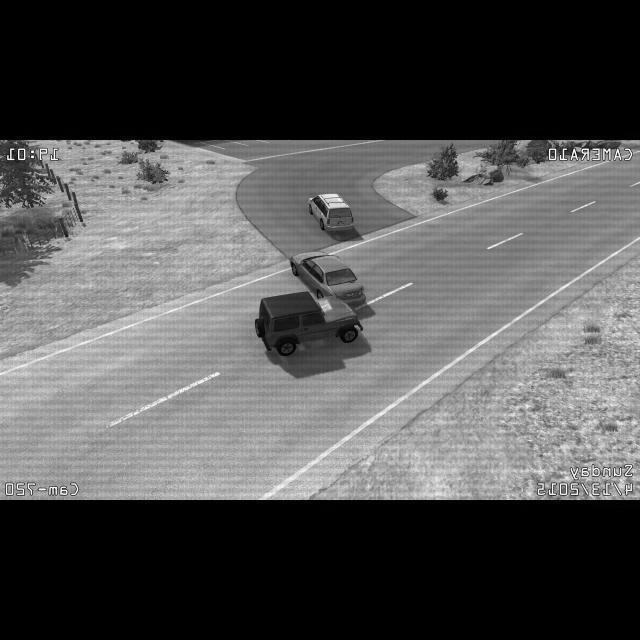accident: (252, 251, 372, 357)
vehicle: (309, 191, 356, 241)
